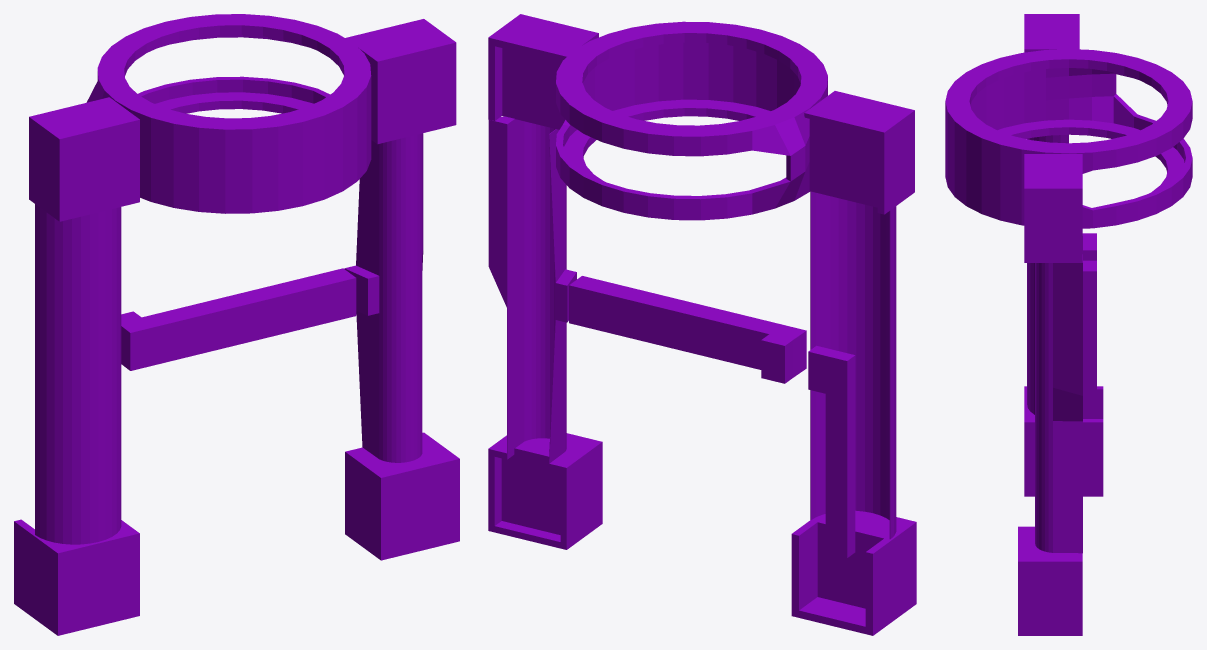
The model's file is Stage10.fbx.
3 views of the same model, side by side, from view 1: azimuth 30°, elevation 25°; view 2: azimuth 150°, elevation 25°; view 3: azimuth 270°, elevation 25° (orthographic). The views are drawn at different scales.
Visible parts, largest first — view 1: Cube; view 2: Cube; view 3: Cube.
Part boxes in pixels (<box>): Cube: <box>14,14,459,635</box>; Cube: <box>488,14,916,635</box>; Cube: <box>945,14,1192,635</box>.
Bounding box in the file's own units: 1010 × 1203 × 602.
